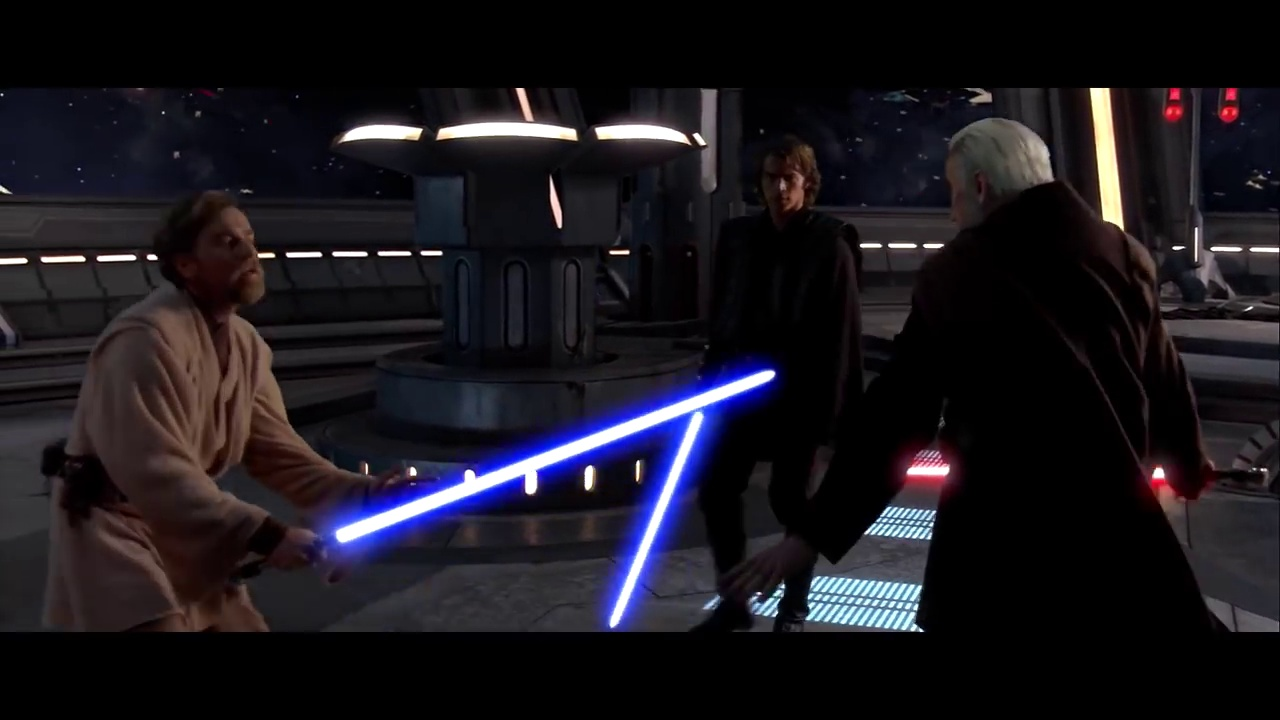lightsaber: (232, 363, 779, 577), (602, 388, 709, 635)
